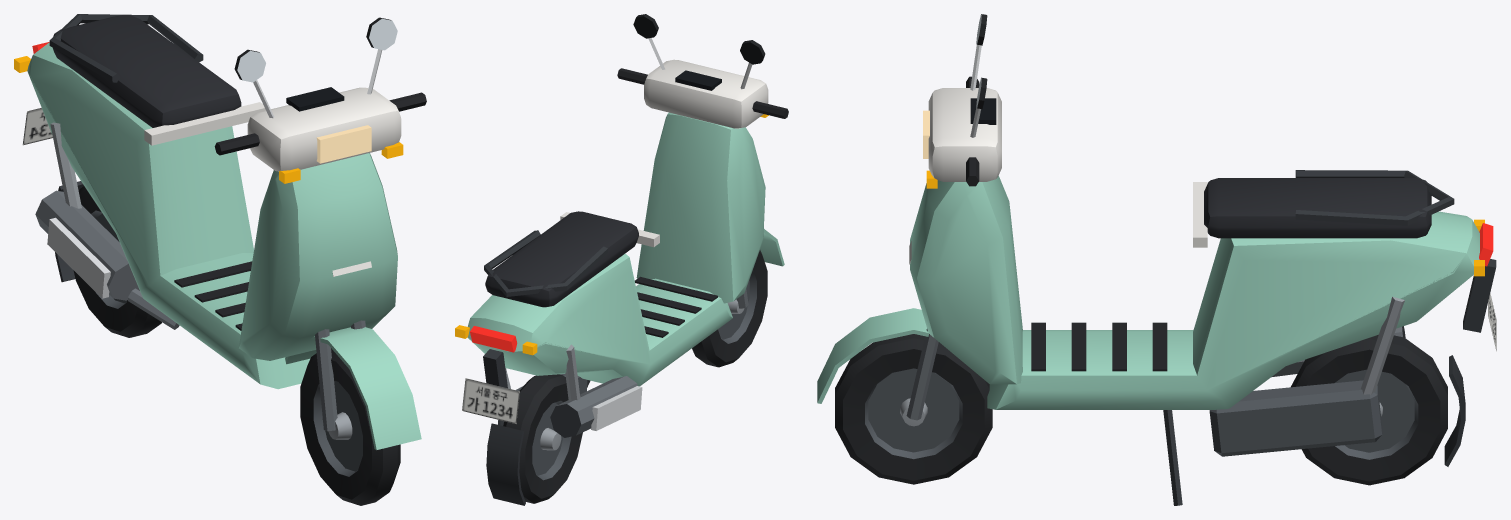
Rendered from SC_Veh_Scooter.gltf.
The picture shows the model from 3 angles, left to right: view 1: azimuth 30°, elevation 25°; view 2: azimuth 150°, elevation 25°; view 3: azimuth 270°, elevation 25°; orthographic projection. The views are drawn at different scales.
Visible parts, largest first — view 1: SC_Veh_Scooter; view 2: SC_Veh_Scooter; view 3: SC_Veh_Scooter.
Part boxes in pixels (<box>): SC_Veh_Scooter: <box>14,14,426,505</box>; SC_Veh_Scooter: <box>455,14,788,505</box>; SC_Veh_Scooter: <box>817,14,1496,505</box>.
Size of the model in its own units: 0.64 by 1.31 by 1.85.
3 materials, 3 textured.
